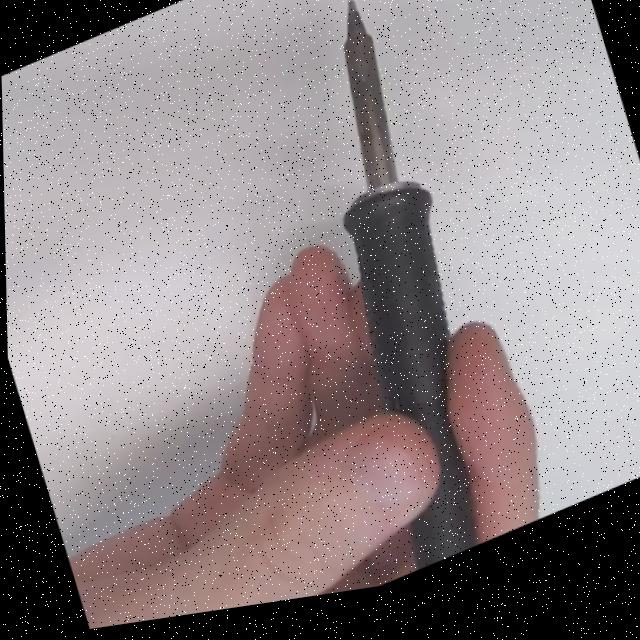soldering_iron: (253, 0, 530, 591)
